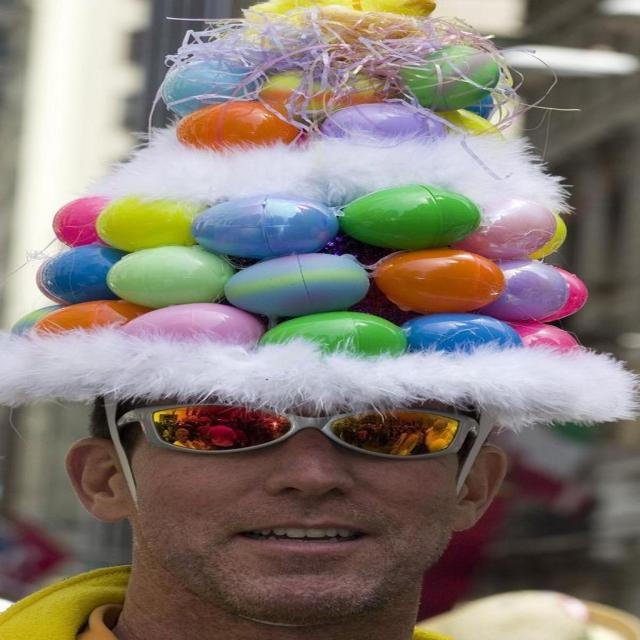Face: (89, 371, 499, 628)
